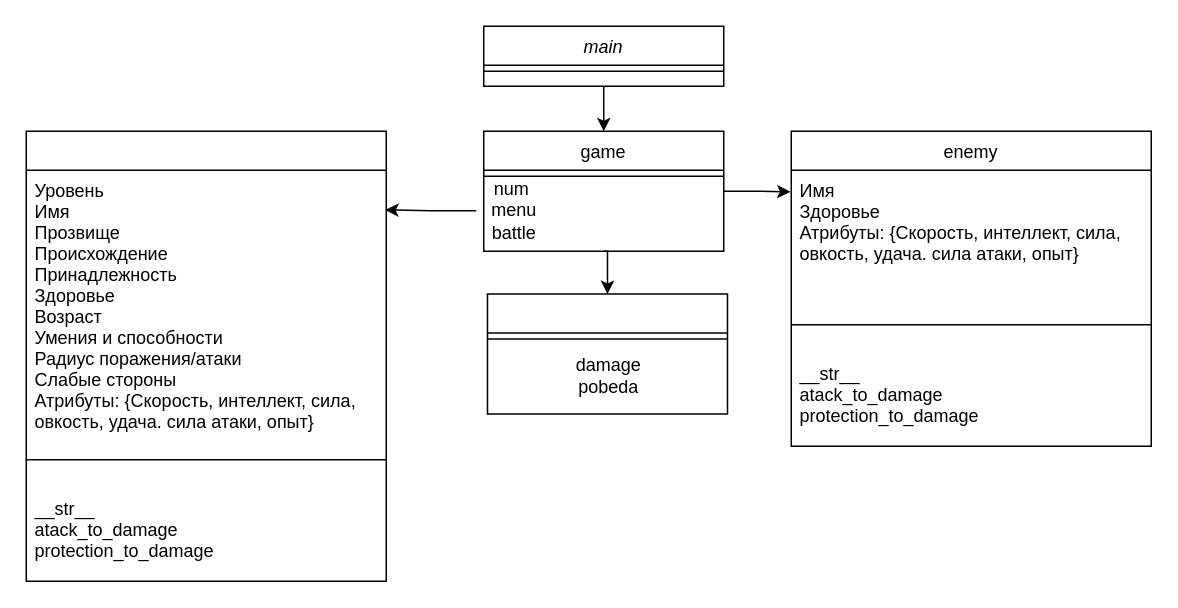
This 1178x608 diagram has some shape labels left out. Each missing label, with the box of its shape:
heroes: (25, 130, 386, 581)
log: (486, 292, 728, 414)
